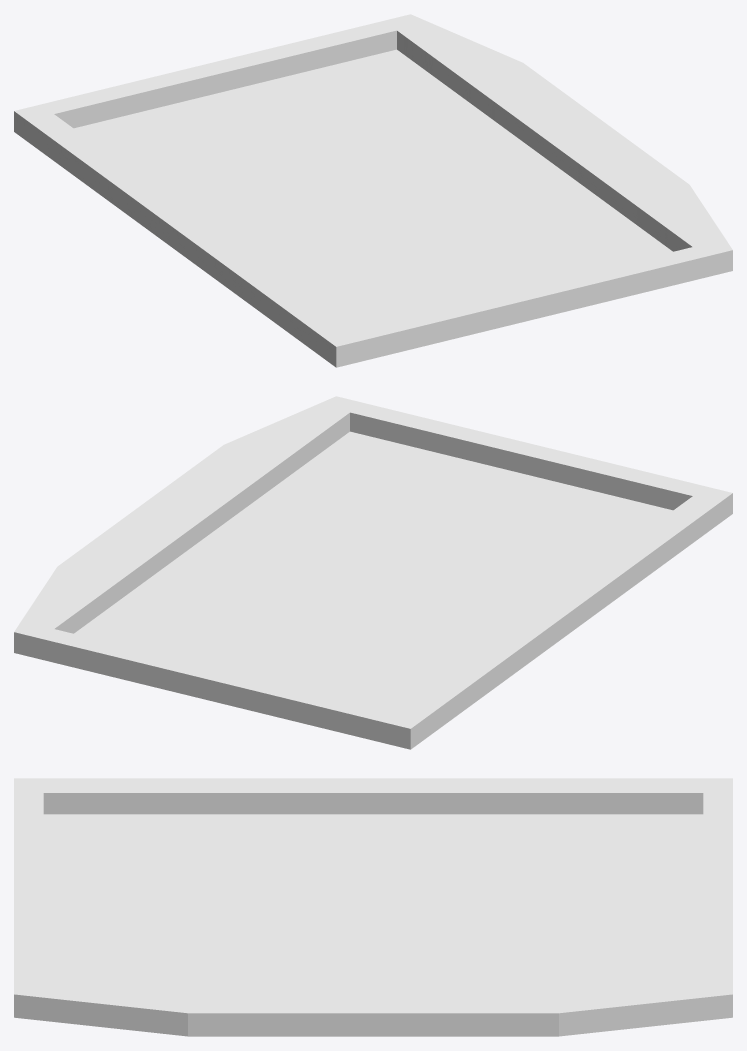
Rendered from OrderPlatter.fbx.
3 renders of one model, top to bottom at view 1: azimuth 30°, elevation 25°; view 2: azimuth 150°, elevation 25°; view 3: azimuth 270°, elevation 25°, orthographic. The views are drawn at different scales.
Visible parts, largest first — view 1: Cube; view 2: Cube; view 3: Cube.
Part boxes in pixels (<box>): Cube: <box>14,14,732,367</box>; Cube: <box>14,396,732,749</box>; Cube: <box>14,778,732,1036</box>.
Bounding box in the file's own units: 284 × 13.1 × 367.
